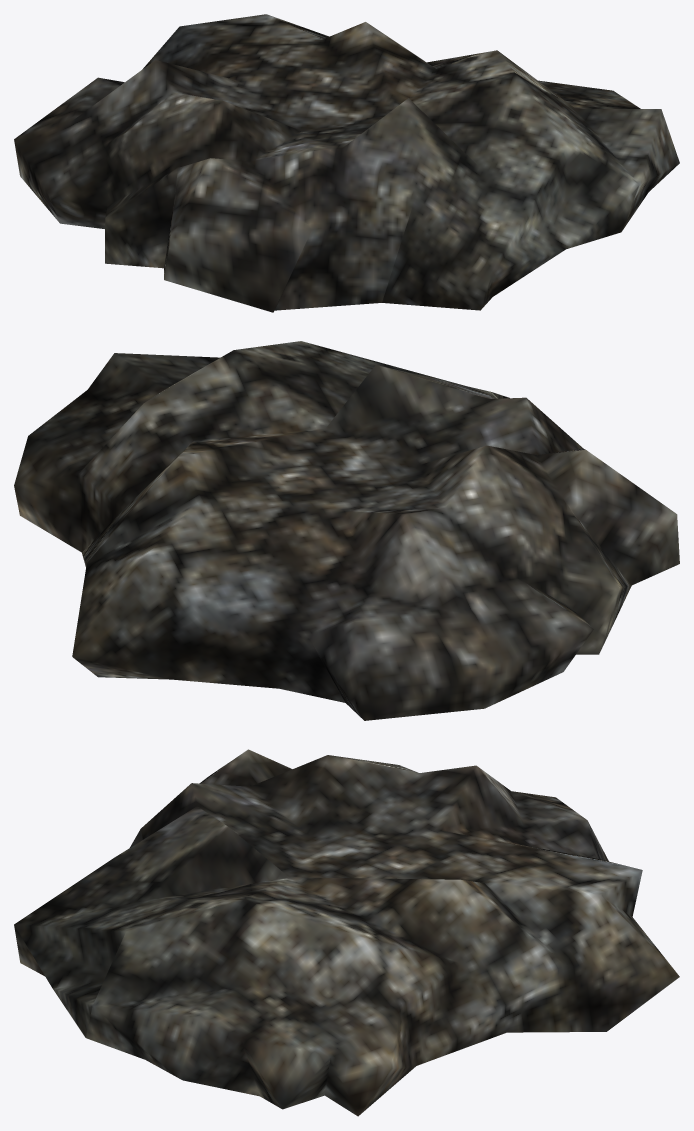
Rendered from Rock3_LOD1.fbx.
3 renders of one model, top to bottom at view 1: azimuth 30°, elevation 25°; view 2: azimuth 150°, elevation 25°; view 3: azimuth 270°, elevation 25°, orthographic. The views are drawn at different scales.
Visible parts, largest first — view 1: Rock3_Group58529; view 2: Rock3_Group58529; view 3: Rock3_Group58529.
Part boxes in pixels (left/top/right/bottom): Rock3_Group58529: left=14, top=14, right=679, bottom=312; Rock3_Group58529: left=14, top=341, right=679, bottom=720; Rock3_Group58529: left=14, top=749, right=679, bottom=1116.
Size of the model in its own units: 6.35 by 1.77 by 6.23.
